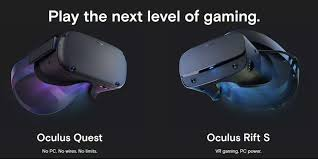oculus: (177, 32, 277, 104), (32, 30, 130, 101)
